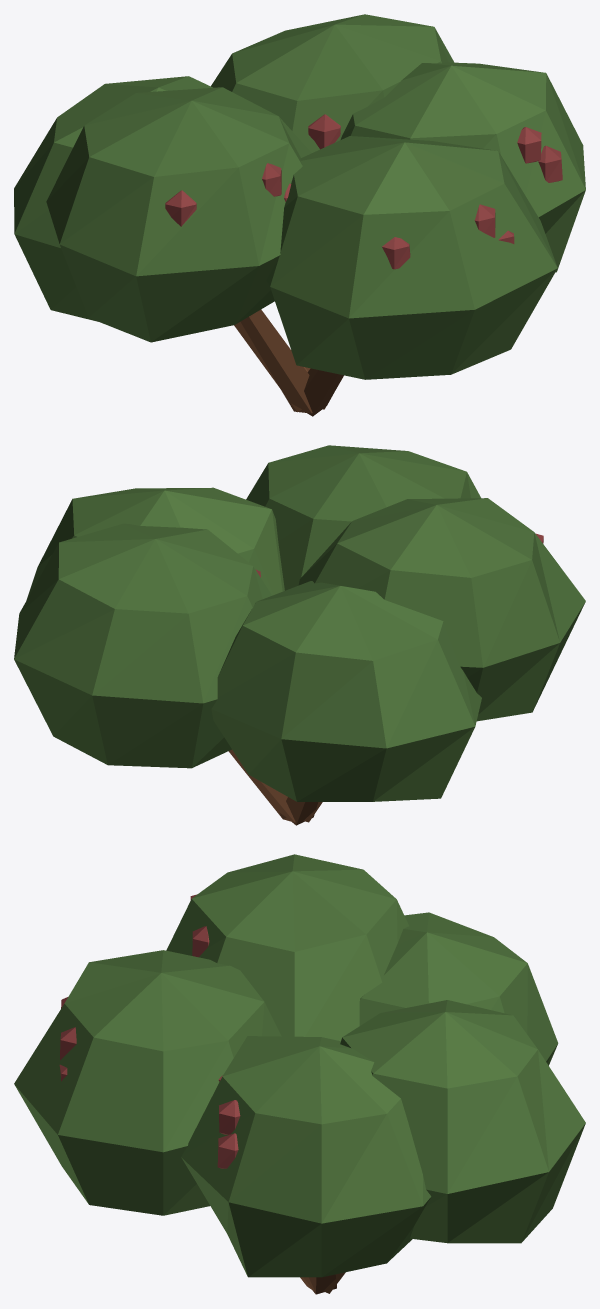
The model's file is Plant_Common_BerryThicket_001.glb.
The picture shows the model from 3 angles, top to bottom: view 1: azimuth 30°, elevation 25°; view 2: azimuth 150°, elevation 25°; view 3: azimuth 270°, elevation 25°; orthographic projection. The views are drawn at different scales.
Parts seen in each view (by area): view 1: Plant_Common_BerryThicket_001; view 2: Plant_Common_BerryThicket_001; view 3: Plant_Common_BerryThicket_001.
Part boxes in pixels (x1=…): Plant_Common_BerryThicket_001: x1=14, y1=14, x2=585, y2=416; Plant_Common_BerryThicket_001: x1=14, y1=445, x2=585, y2=825; Plant_Common_BerryThicket_001: x1=14, y1=854, x2=585, y2=1294.
Size of the model in its own units: 2.15 by 1.35 by 1.98.
